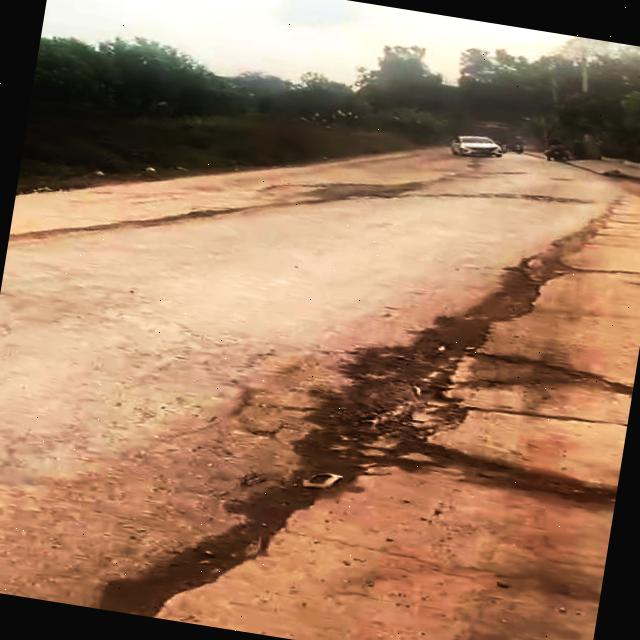pothole: (303, 308, 638, 516)
